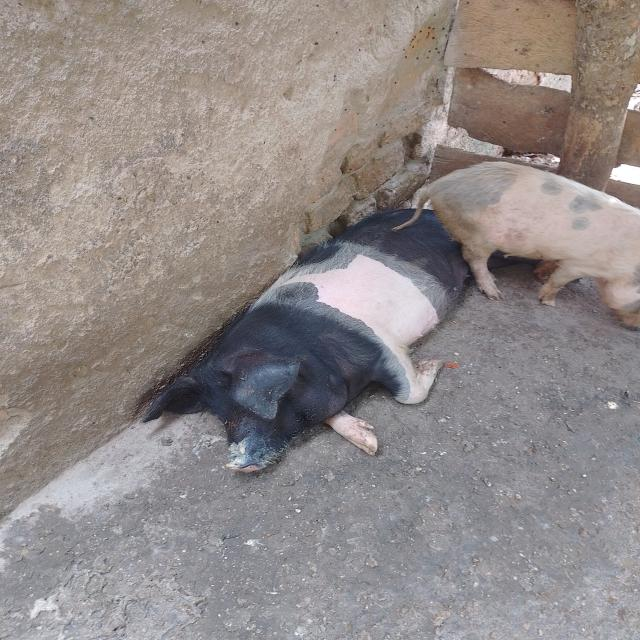pig: (113, 140, 560, 516)
